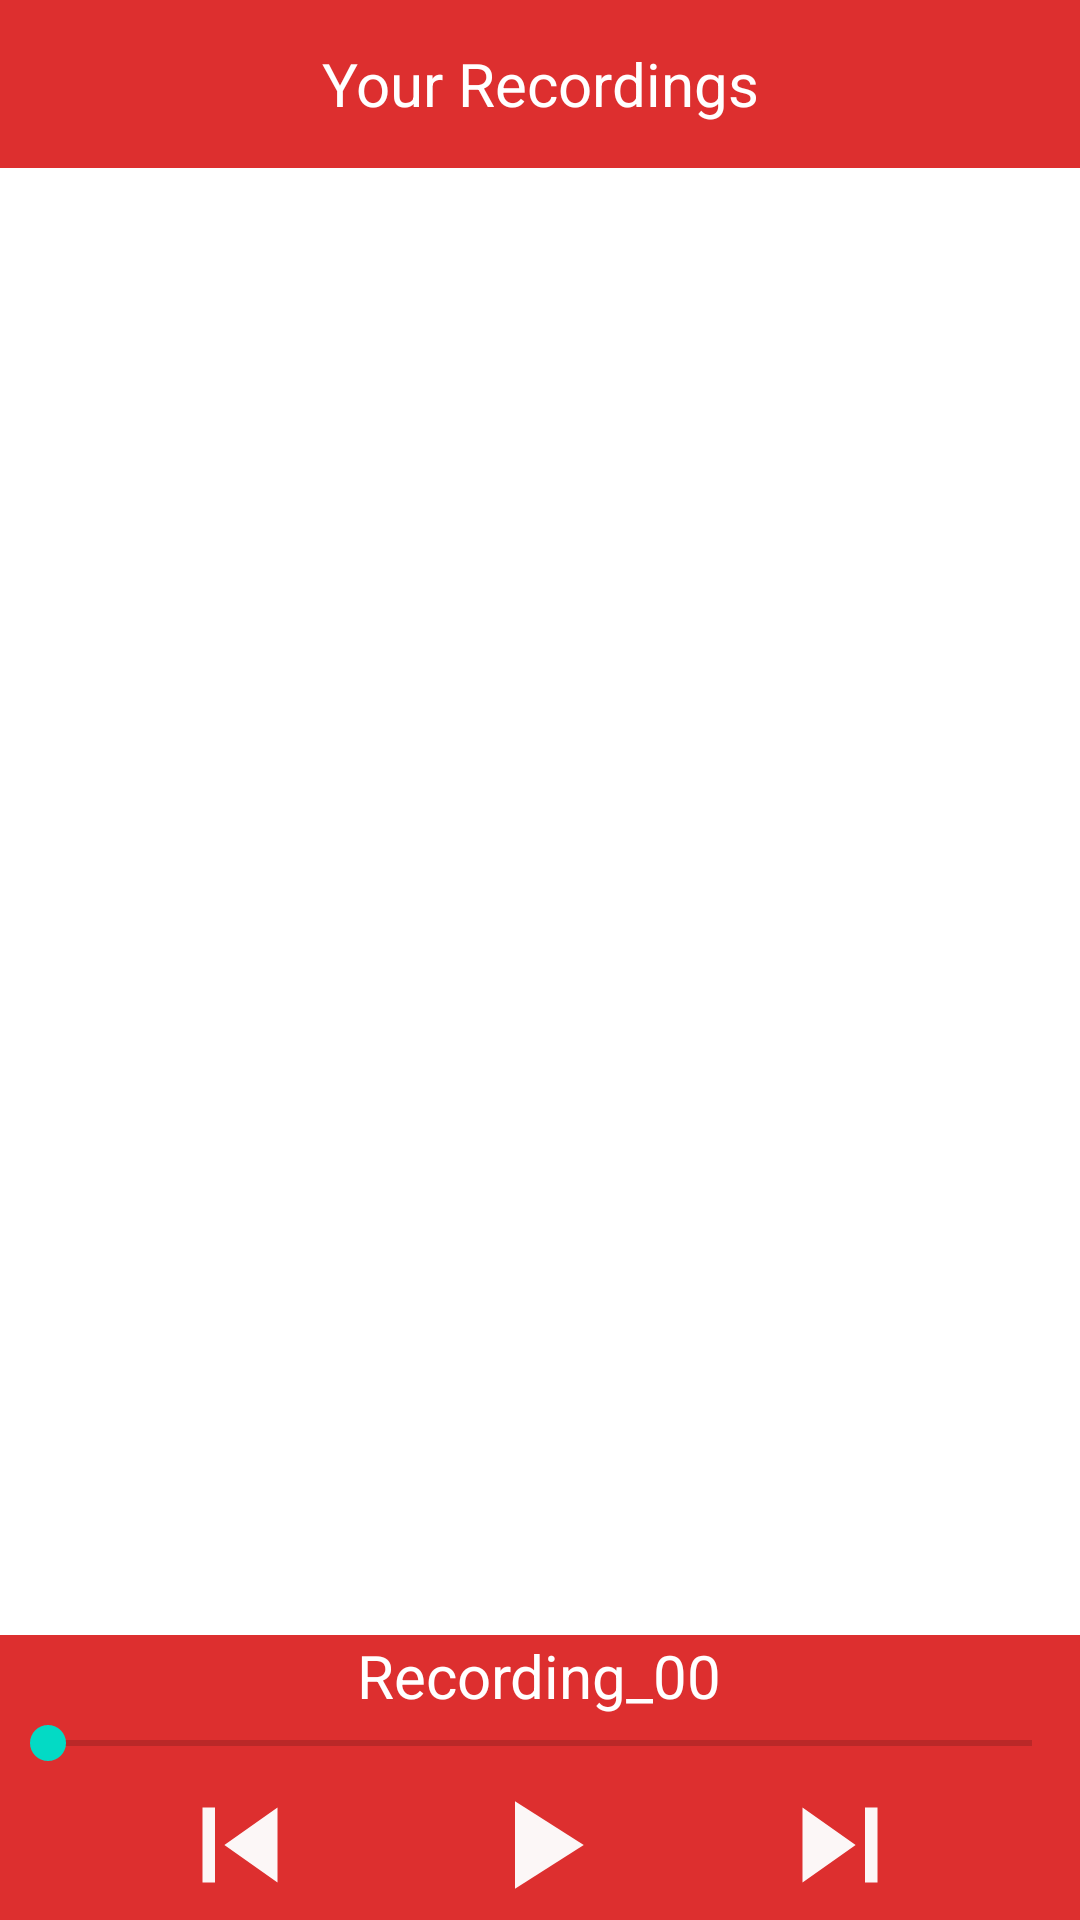

Screen size 1080x1920. Icon name, then its box in pixels as box(x1, y1, x2, y2):
play arrow: box(515, 1801, 584, 1889)
skip next: box(802, 1807, 878, 1883)
skip previous: box(202, 1807, 278, 1883)
